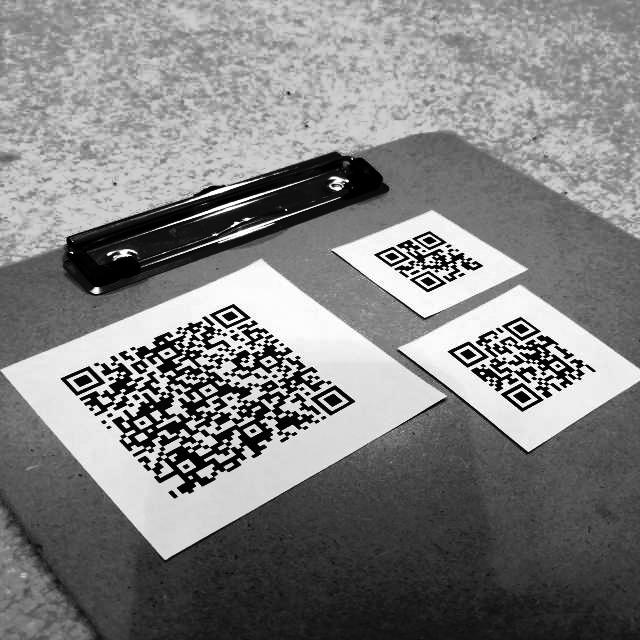qr_code: (49, 290, 363, 508), (437, 311, 609, 417), (362, 218, 497, 298)
